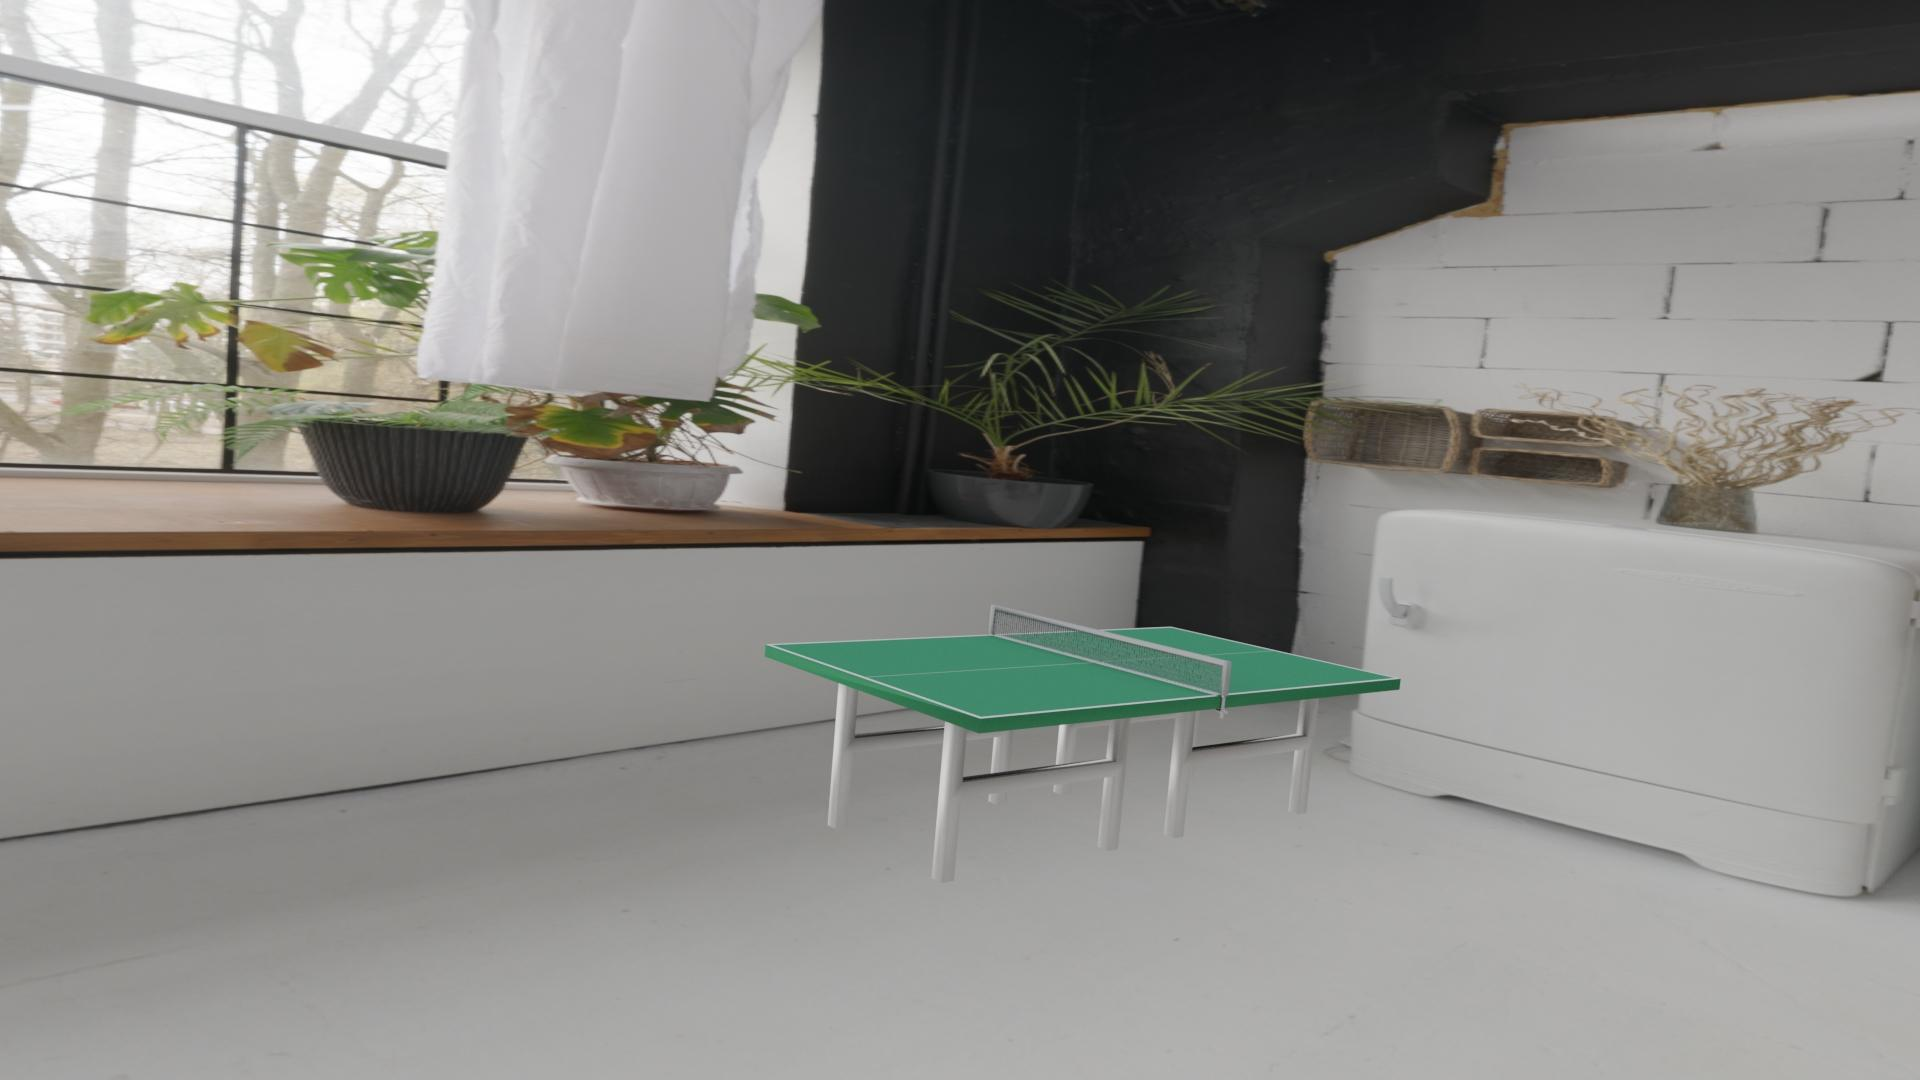table: (771, 628, 1395, 717)
